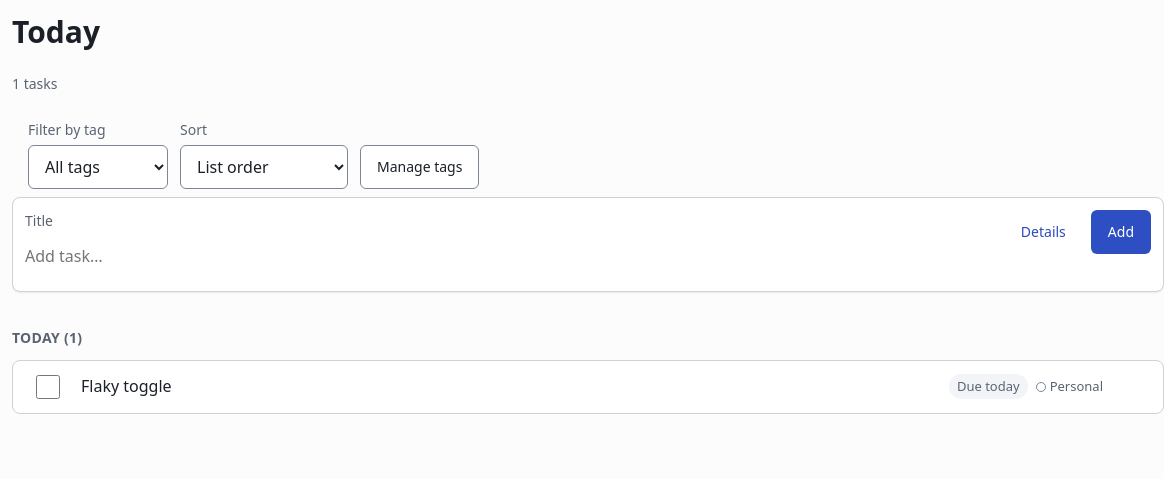
it: §5.5 live regions — one region never cancels the other’s pending message › lands BOTH halves of the +1066/+1072 collision: the rollback report must not swallow the optimistic completion
The image size is (1164, 479).
Click the checkbox named "Mark \"Flaky toggle\" as complete": {"x": 48, "y": 387} x1=36 y1=375 x2=60 y2=399
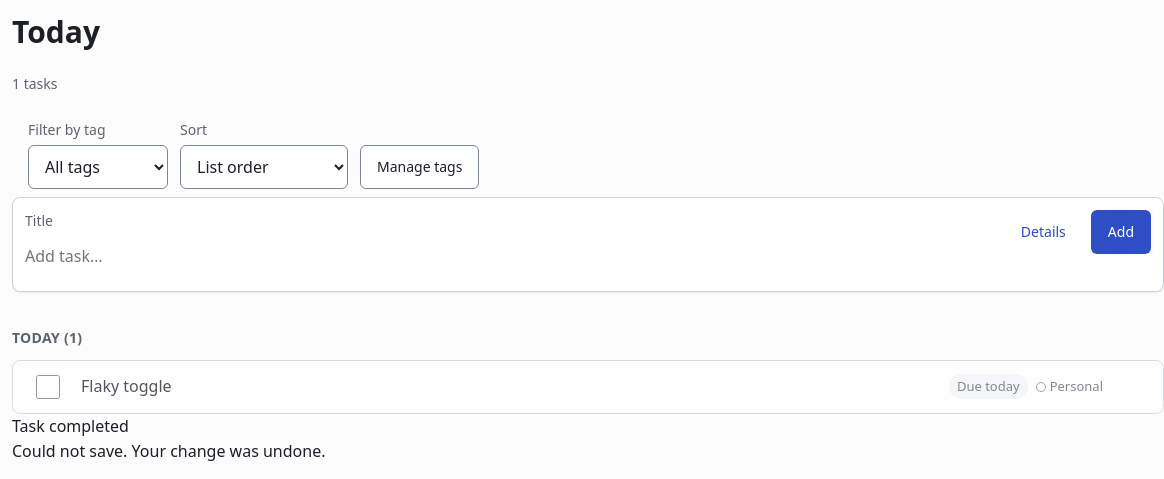
Now the text "Task completed" is shown, box x1=12 y1=415 x2=129 y2=437
Now the text "Could not save. Your change was undone." is shown, box x1=12 y1=440 x2=326 y2=462
